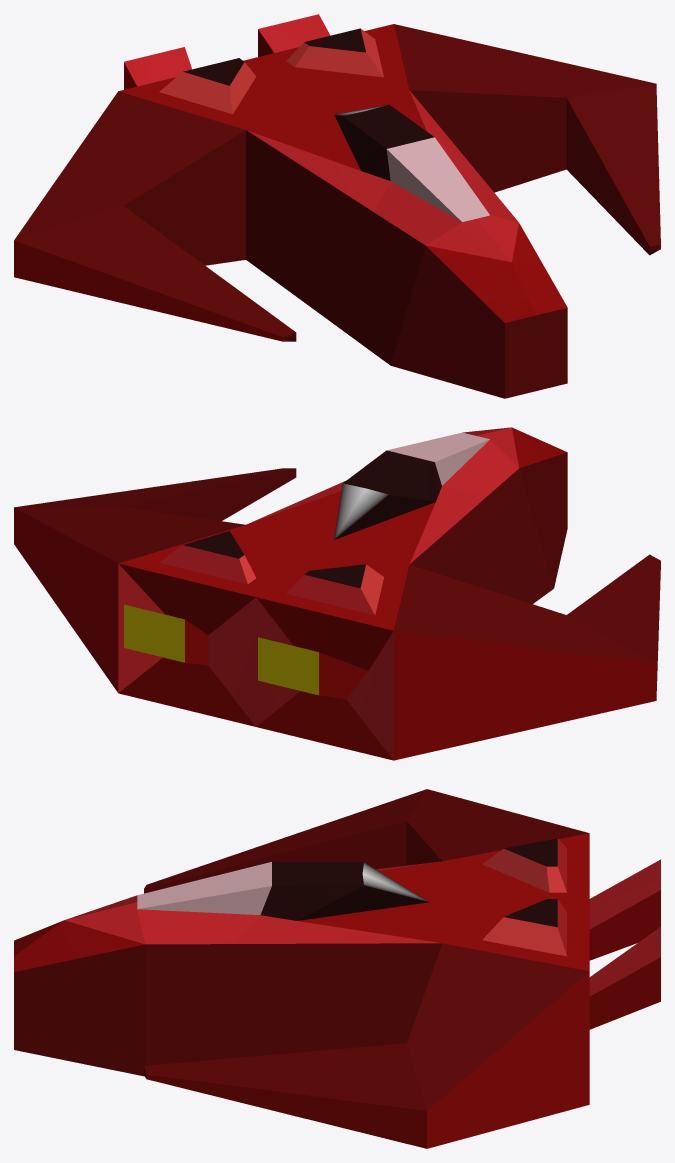
The model's file is SpaceShip1_IrmakEsi.fbx.
3 views of the same model, one above another, from view 1: azimuth 30°, elevation 25°; view 2: azimuth 150°, elevation 25°; view 3: azimuth 270°, elevation 25° (orthographic). The views are drawn at different scales.
Parts seen in each view (by area): view 1: Cube.001; view 2: Cube.001; view 3: Cube.001.
Part boxes in pixels (bbox=[...]): Cube.001: bbox=[14, 14, 660, 398]; Cube.001: bbox=[14, 427, 660, 760]; Cube.001: bbox=[14, 789, 660, 1148].
Size of the model in its own units: 634 by 149 by 538.
